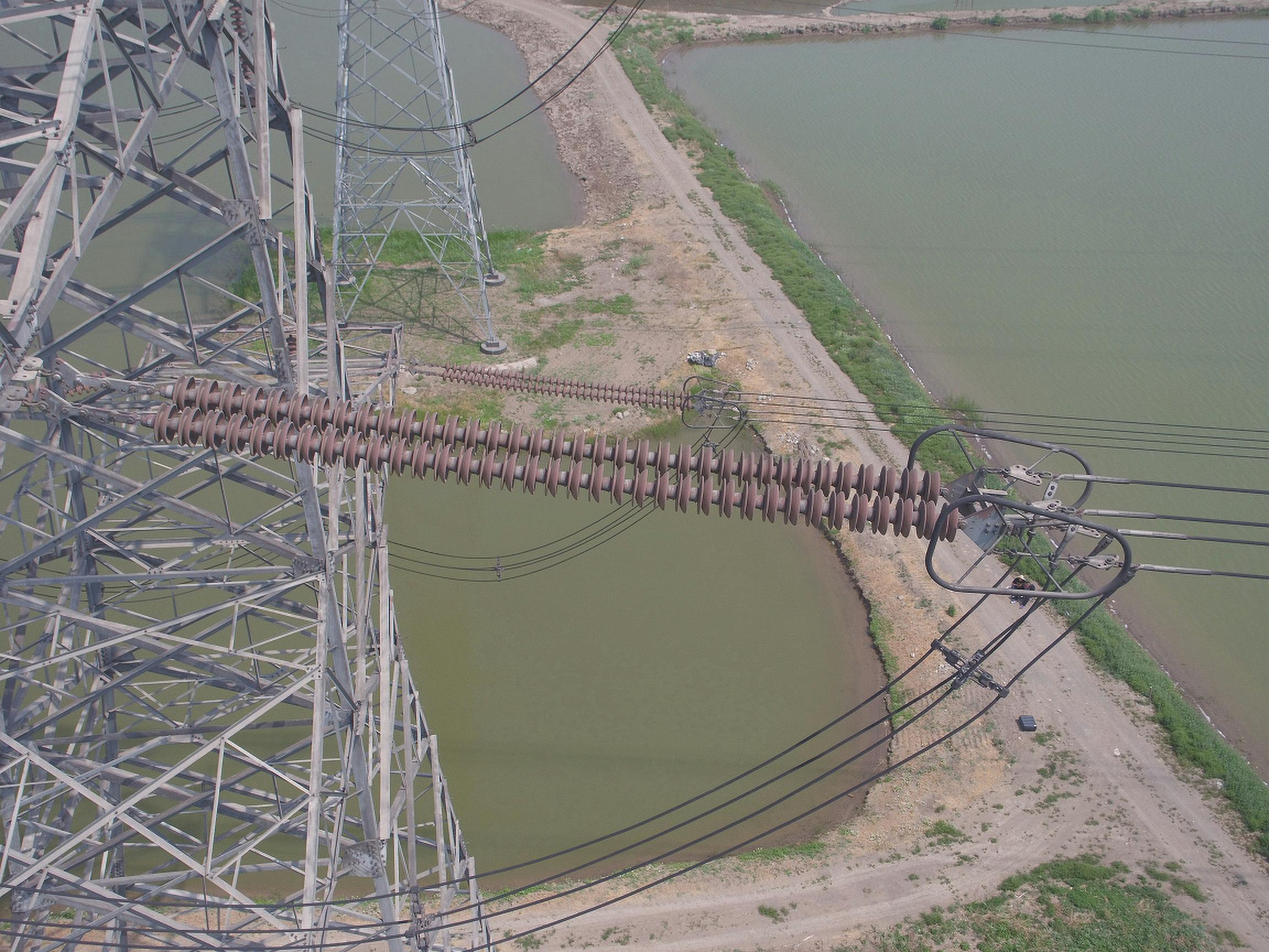insulator: (149, 370, 962, 546), (441, 359, 693, 414), (228, 3, 255, 83), (64, 366, 115, 400)
